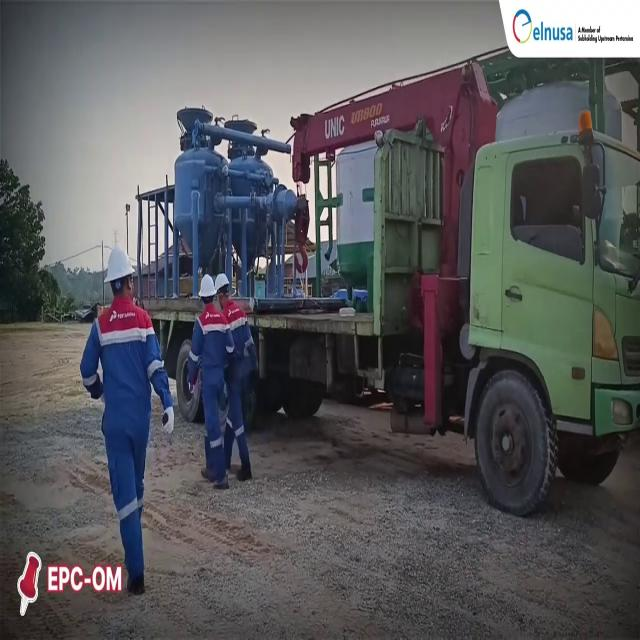Gloves: (161, 417, 175, 440)
Hardhat: (104, 250, 130, 282), (198, 274, 217, 298), (214, 275, 233, 299)
Overall Suit: (85, 306, 173, 550), (192, 306, 234, 468), (226, 305, 255, 457)
Safety Boots: (126, 568, 143, 596), (203, 457, 216, 481), (214, 471, 230, 488), (237, 463, 252, 481)
